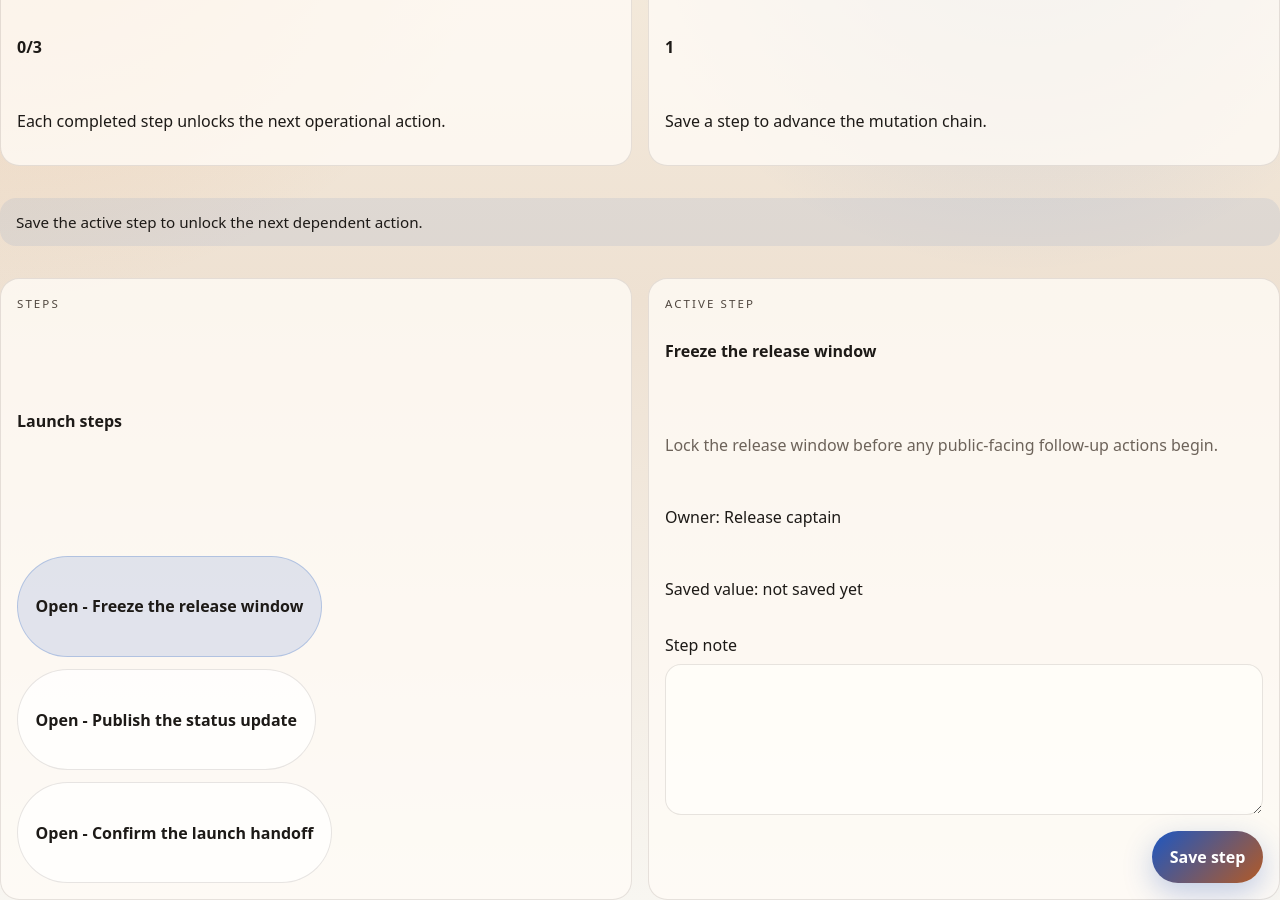
Test case: release launch multi-step workflow › rejects a later step if the required keyword is missing
The image size is (1280, 900).
(page scrolled)
Type "Freeze the release window and confirm the on-call rotation is aligned." into the text box labelled "Step note" at (964, 739), box x1=665 y1=664 x2=1263 y2=814
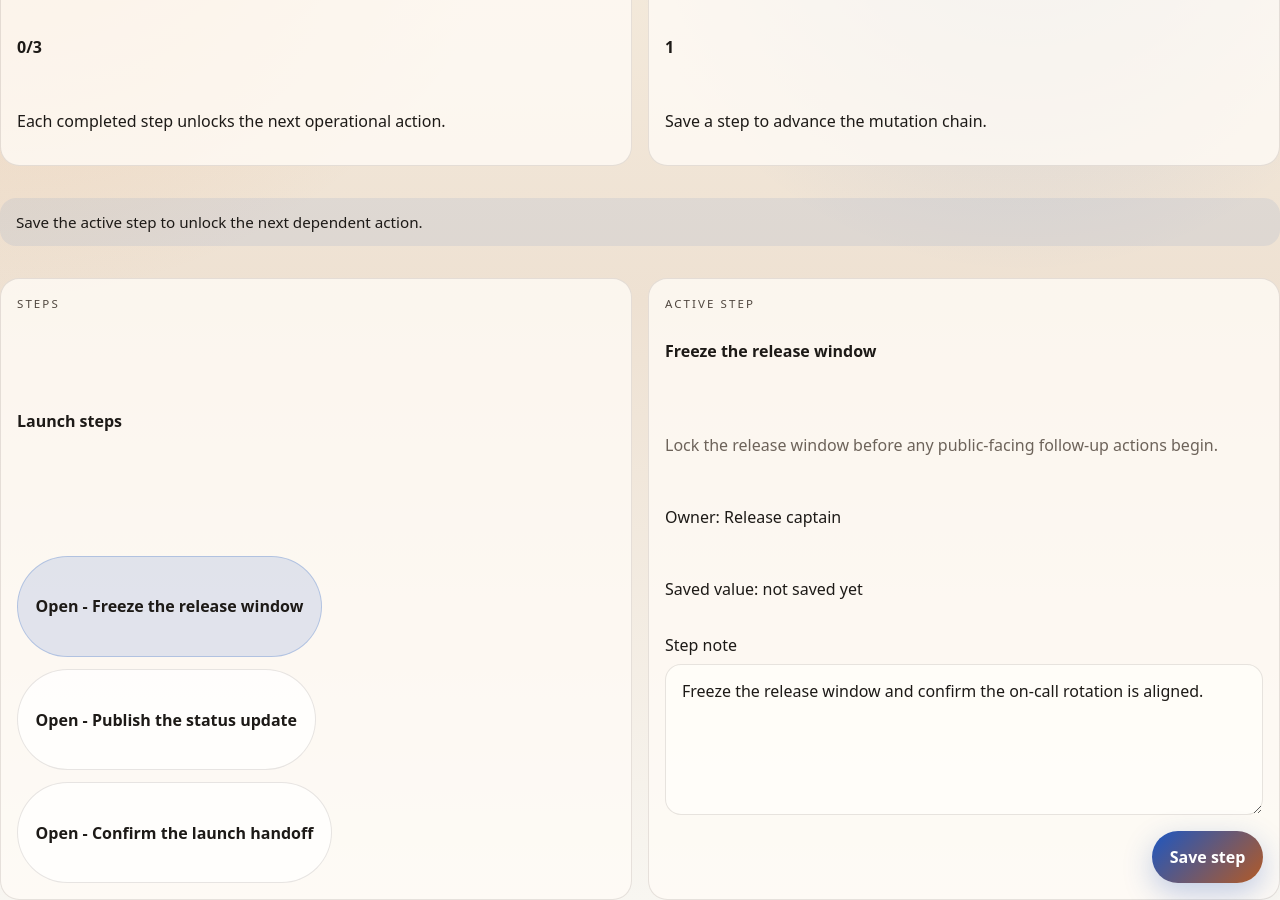
Click the button "Save step" at (1208, 857), box x1=1152 y1=830 x2=1263 y2=883
Wait 320 ms
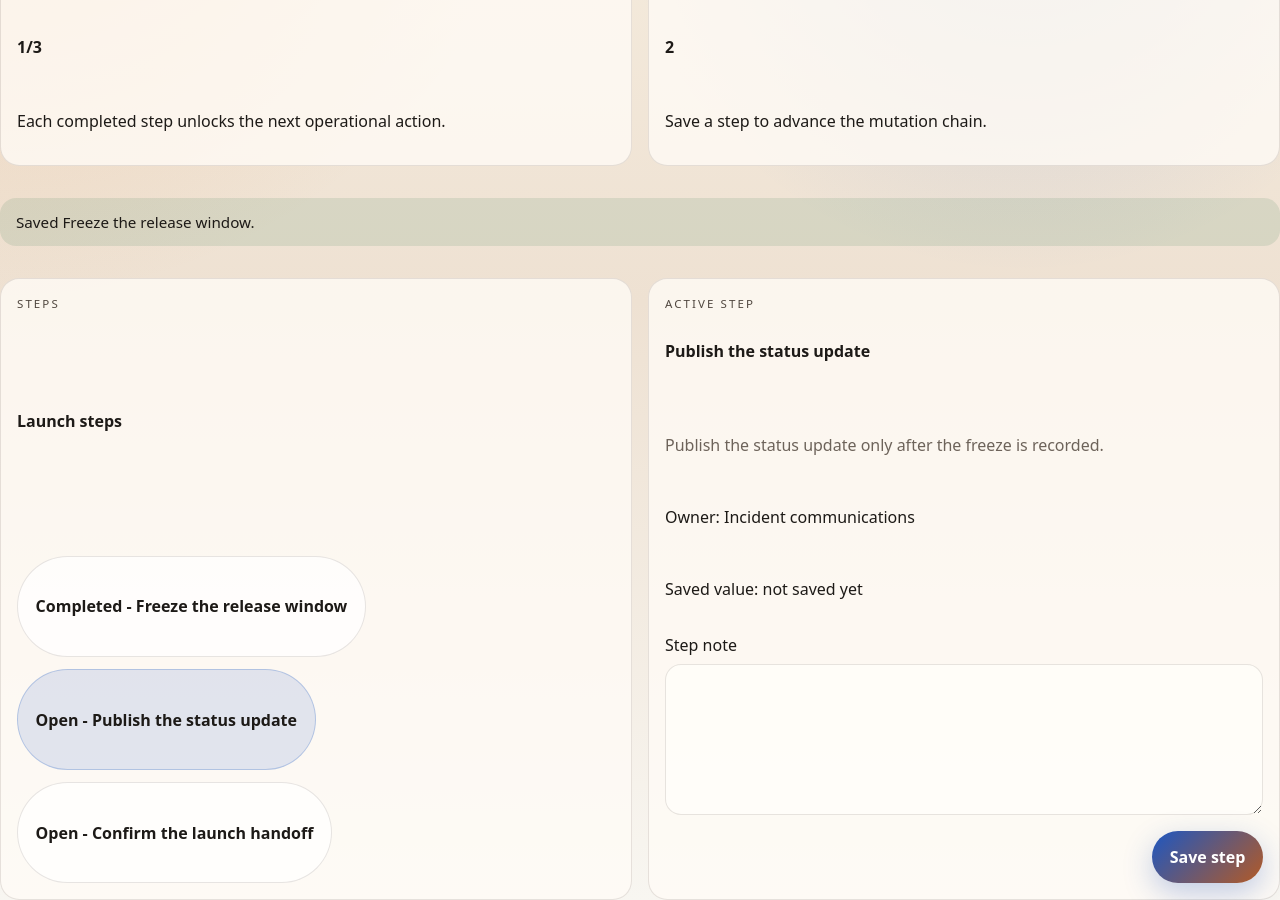
Type "Publish the customer update in chat and the release room." into the text box labelled "Step note" at (964, 739), box x1=665 y1=664 x2=1263 y2=814
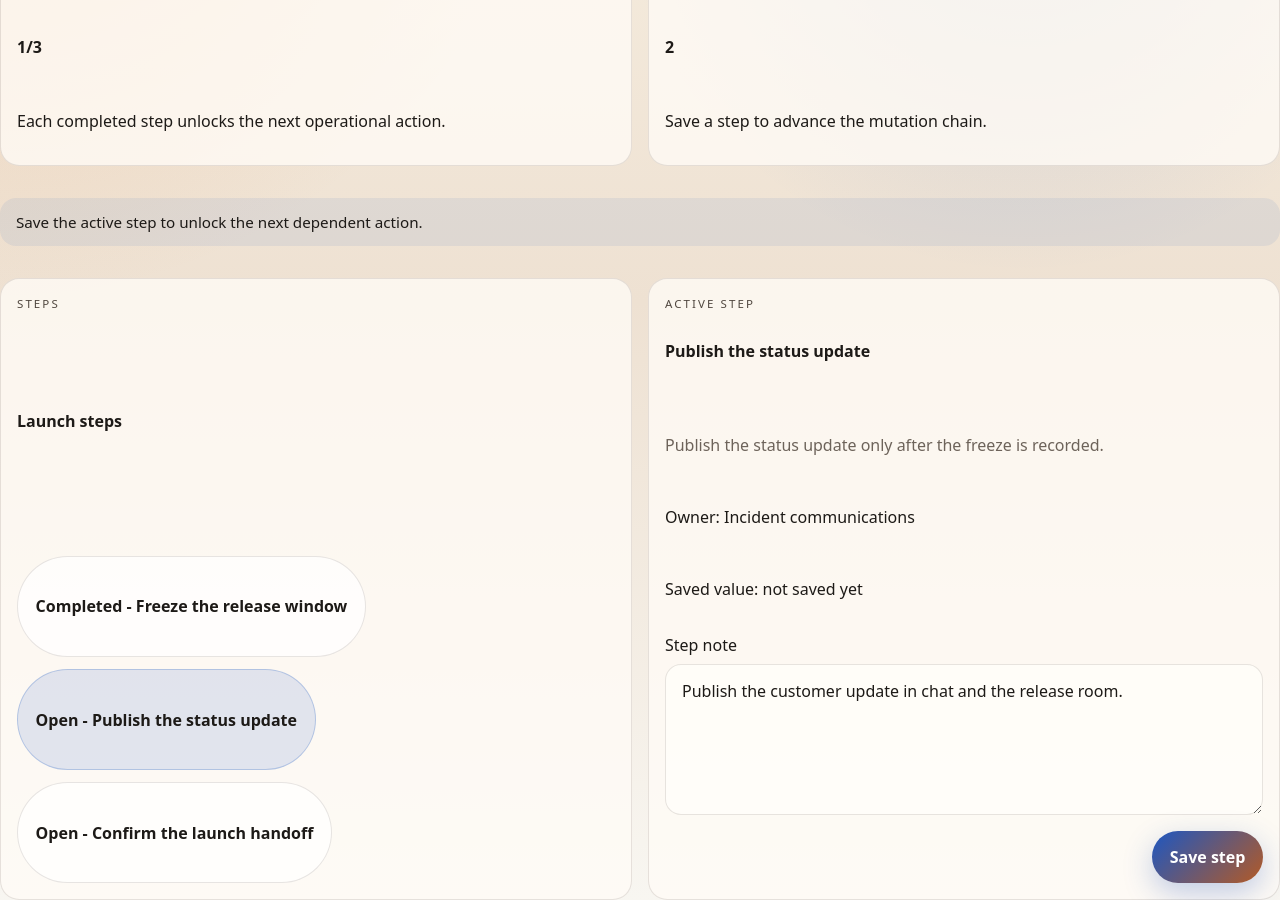
Click the button "Save step" at (1208, 857), box x1=1152 y1=830 x2=1263 y2=883
Wait 320 ms
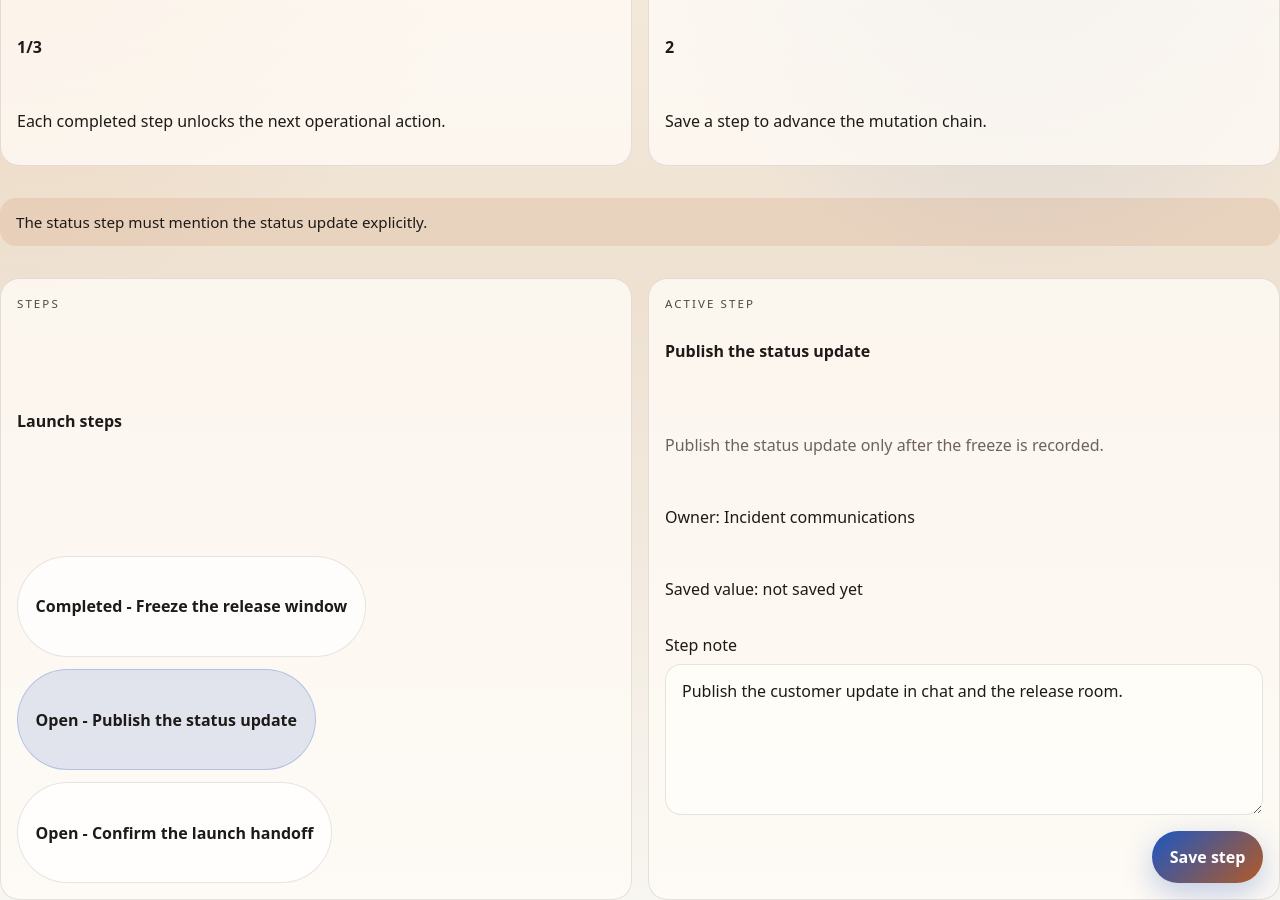
Expected: the text "The status step must mention the status update explicitly." is shown, x1=0 y1=198 x2=1279 y2=246
